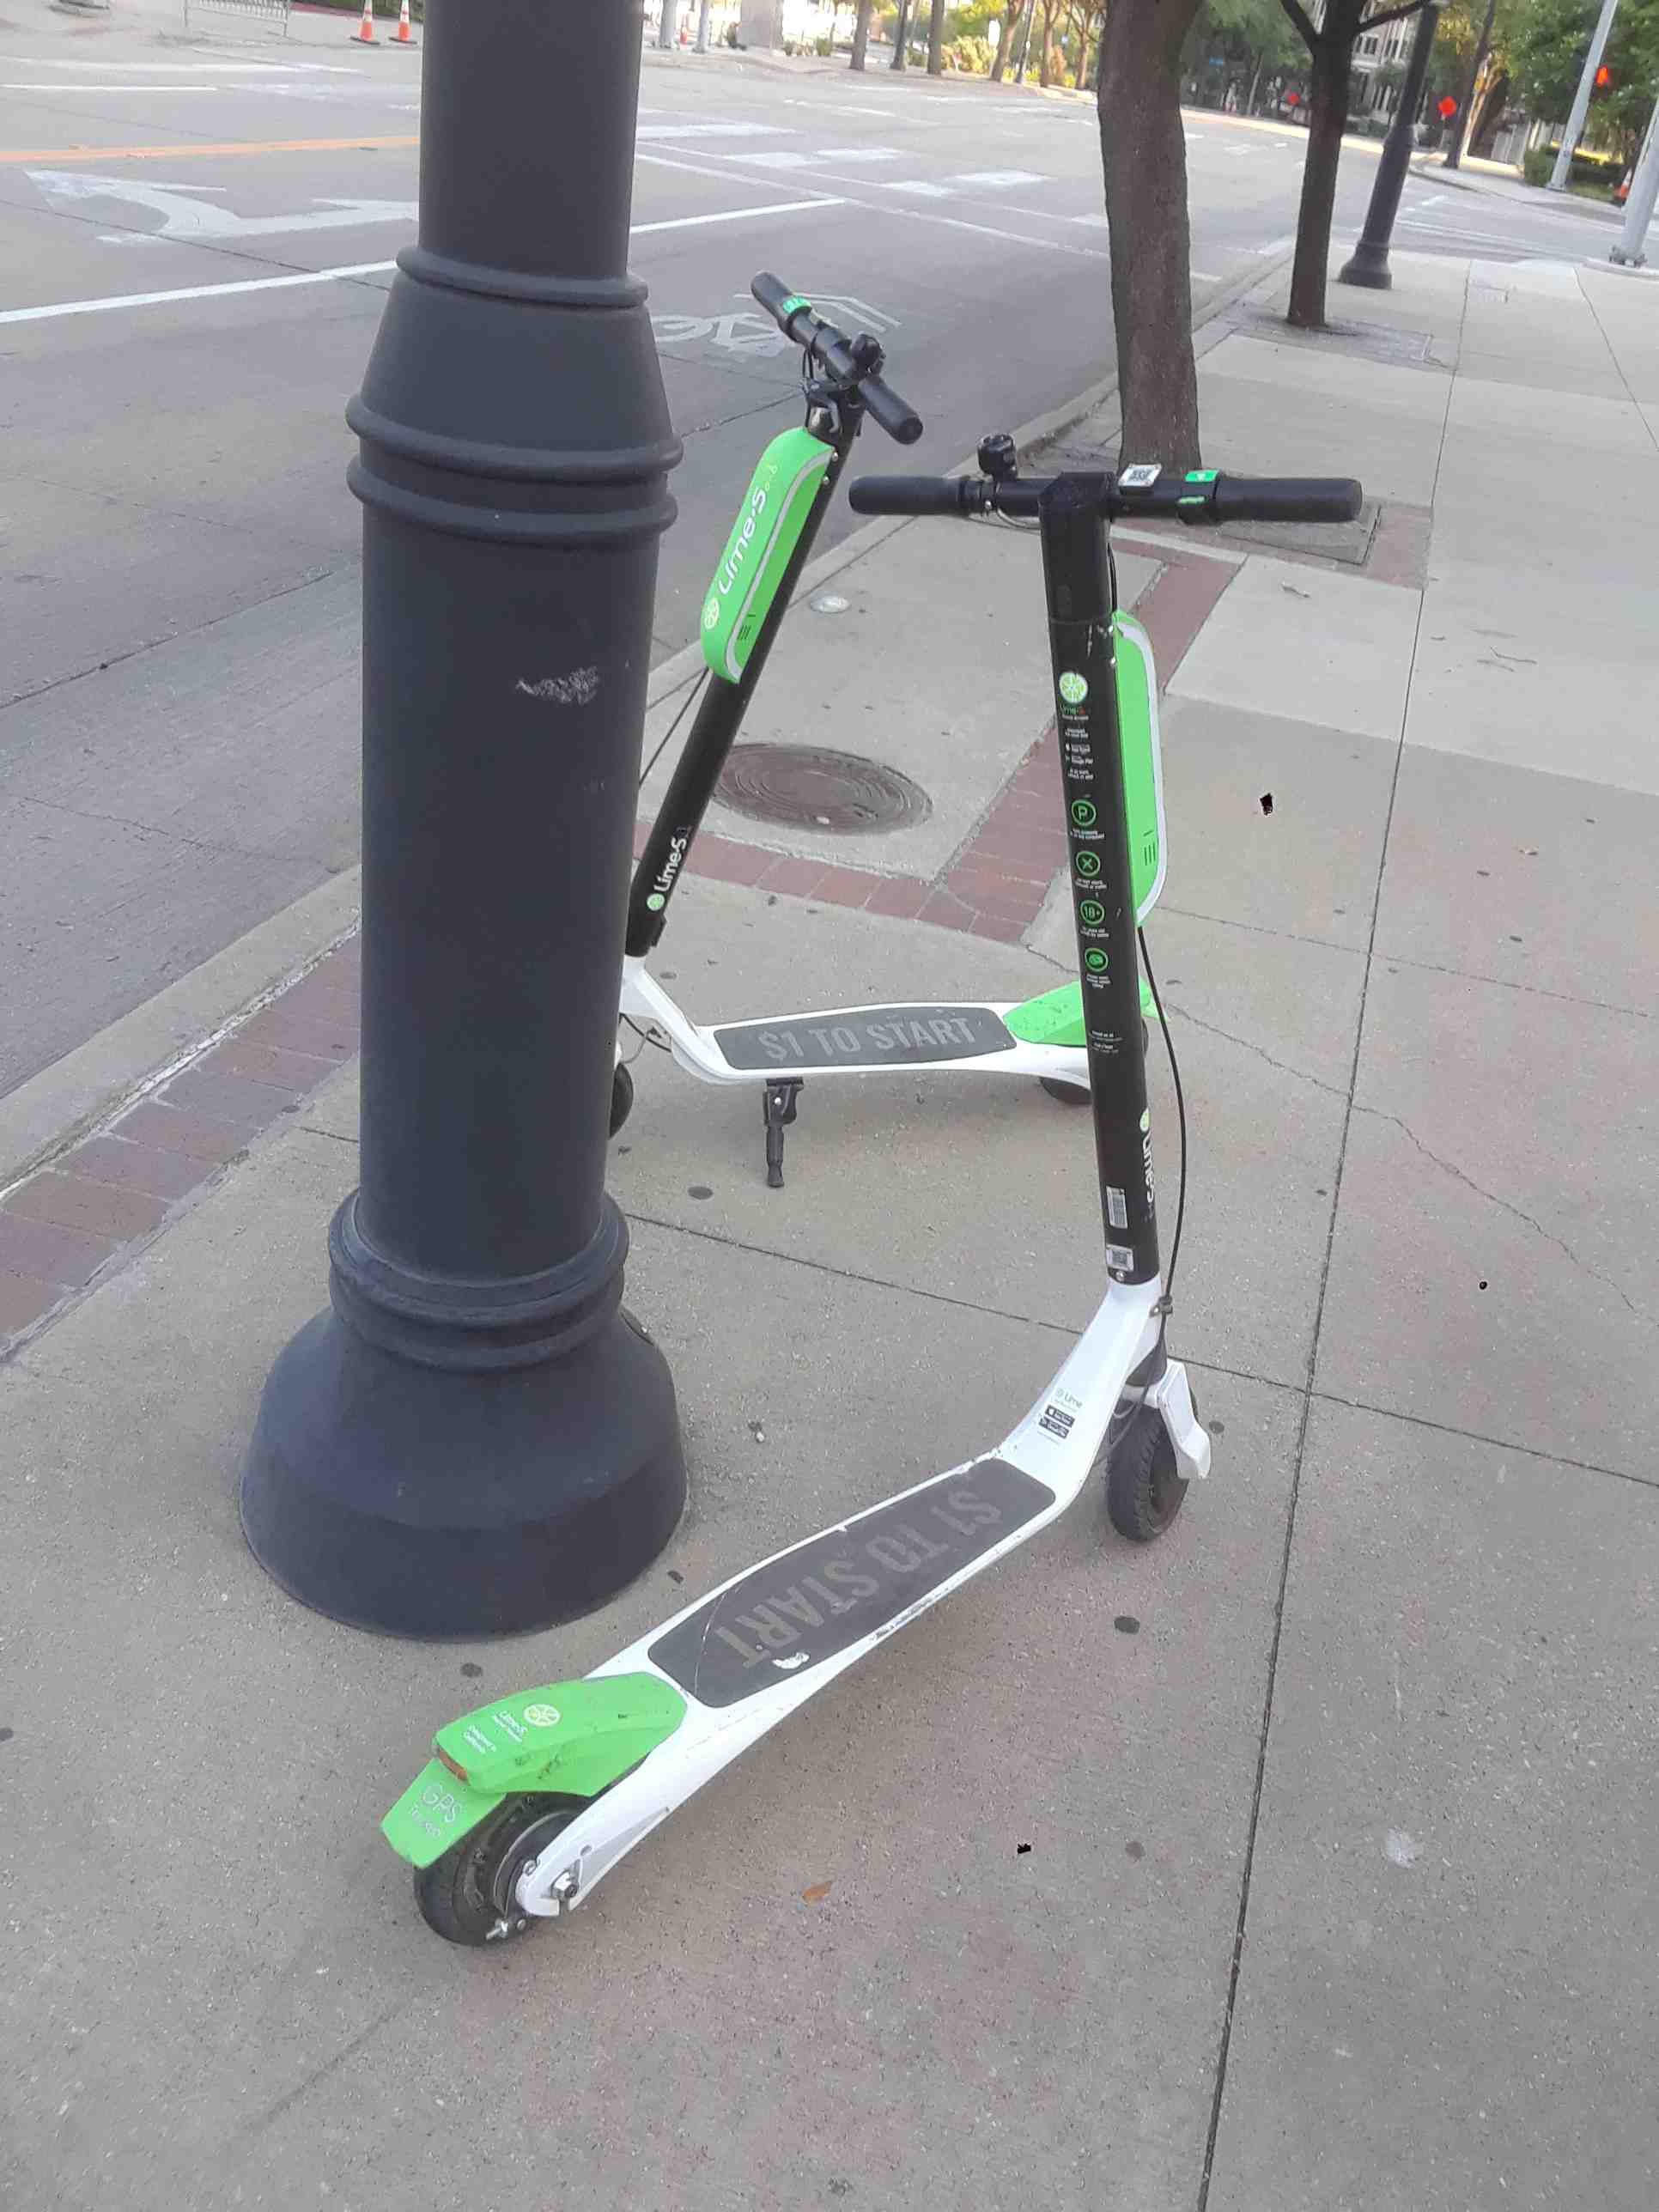scooter: (319, 420, 1424, 1989), (552, 256, 1222, 1195)
